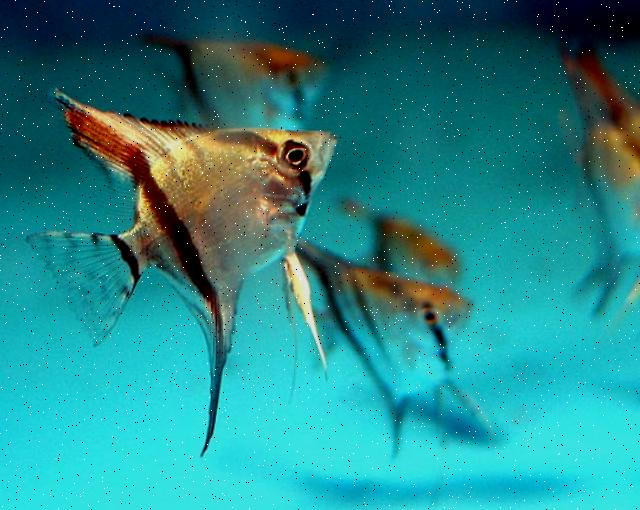Mulut: (299, 118, 359, 174)
Sirip Anal: (162, 279, 260, 463)
Sirip Ekor: (16, 204, 148, 366)
Sirip Perut: (274, 247, 338, 428)
Sirip Punggung: (42, 69, 215, 209)
